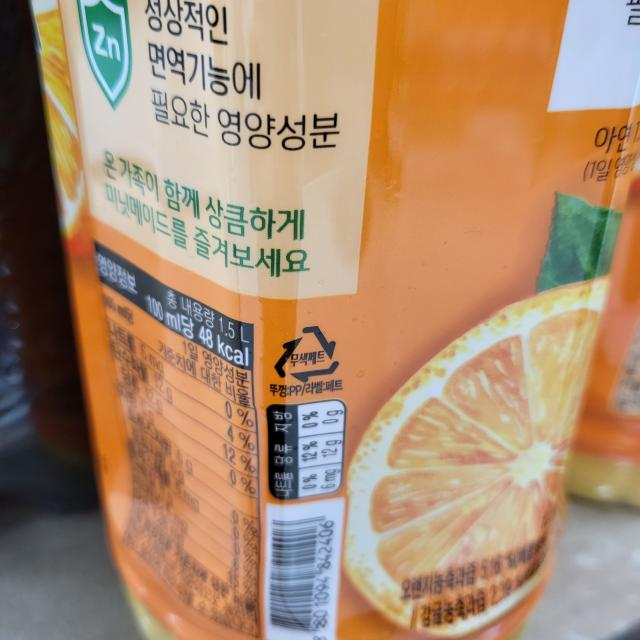ColorlessPET: (272, 322, 341, 384)
